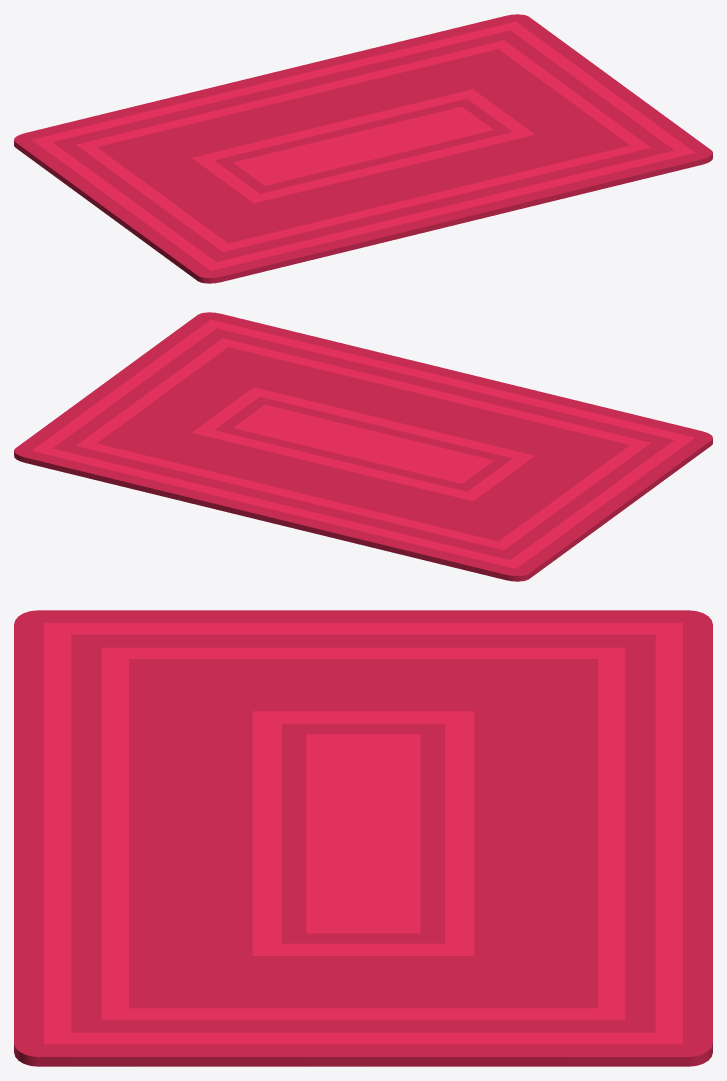
The model's file is carpet_red.fbx.
3 views of the same model, one above another, from view 1: azimuth 30°, elevation 25°; view 2: azimuth 150°, elevation 25°; view 3: azimuth 270°, elevation 25° (orthographic). The views are drawn at different scales.
Parts seen in each view (by area): view 1: carpet_red; view 2: carpet_red; view 3: carpet_red.
Boxes of the visible parts, x1,y1,x2,y2 form: carpet_red: (14, 14, 712, 283); carpet_red: (14, 312, 712, 581); carpet_red: (14, 610, 712, 1066).
Size of the model in its own units: 4.42 by 0.0448 by 2.92.
